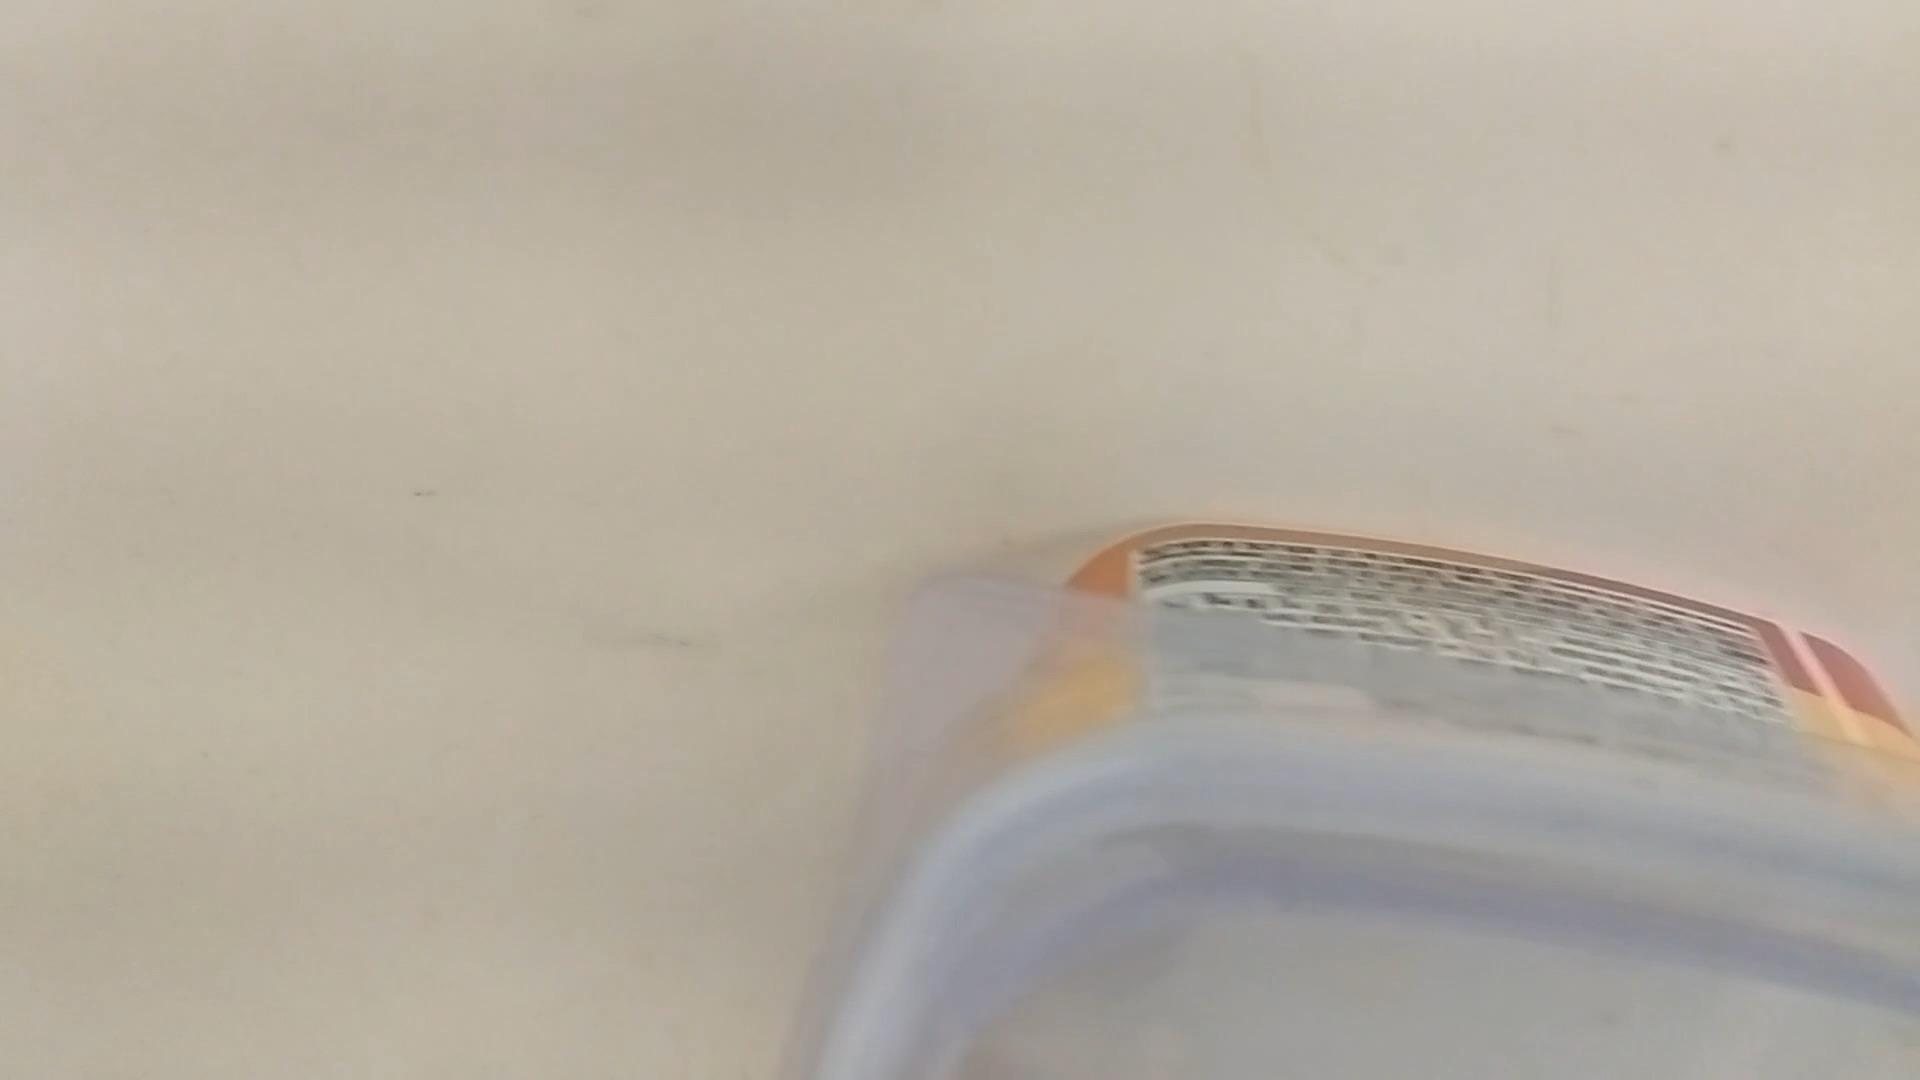butter: (750, 500, 1920, 1080)
